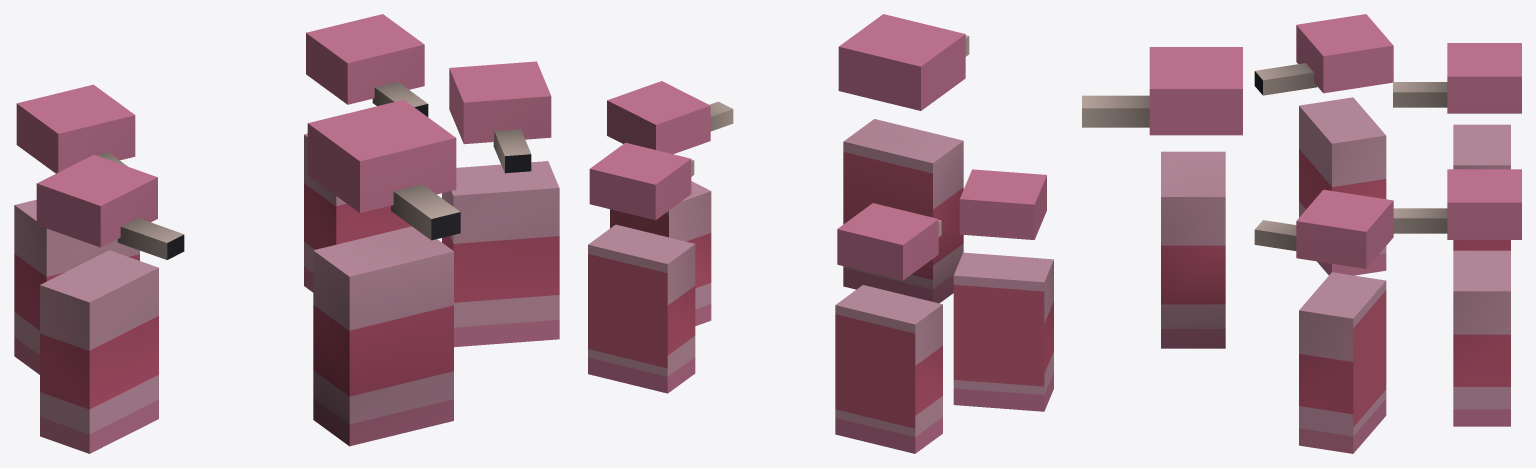
The model's file is flamingo-flock-lod3.glb.
3 renders of one model, left to right at view 1: azimuth 30°, elevation 25°; view 2: azimuth 150°, elevation 25°; view 3: azimuth 270°, elevation 25°, orthographic. The views are drawn at different scales.
Parts seen in each view (by area): view 1: cap_torso, att3_torso, att2_torso, cap_hat, att3_hat, att0_hat, att2_hat, att1_hat, att1_torso, att0_torso; view 2: att0_torso, att1_torso, att3_torso, cap_torso, cap_hat, att2_hat, att0_hat, att1_hat, att3_hat, att2_torso; view 3: att2_torso, cap_torso, cap_hat, att0_torso, att3_torso, att3_hat, att2_hat, att0_hat, att1_hat, att1_torso.
Part boxes in pixels (box(x1,y1,x2,y2)): cap_torso: box(313, 226, 453, 446); att3_torso: box(40, 250, 158, 453); att2_torso: box(442, 161, 559, 347); cap_hat: box(307, 100, 460, 240); att3_hat: box(36, 155, 184, 259); att0_hat: box(306, 14, 428, 116); att2_hat: box(449, 61, 551, 173); att1_hat: box(16, 84, 135, 173); att1_torso: box(14, 199, 139, 374); att0_torso: box(304, 133, 411, 292); att0_torso: box(588, 224, 695, 393); att1_torso: box(835, 285, 942, 453); att3_torso: box(953, 252, 1053, 411); cap_torso: box(843, 119, 963, 303); cap_hat: box(838, 14, 969, 110); att2_hat: box(607, 81, 733, 154); att0_hat: box(589, 142, 694, 220); att1_hat: box(837, 203, 941, 280); att3_hat: box(959, 169, 1046, 239); att2_torso: box(610, 181, 711, 325); att2_torso: box(1299, 272, 1386, 453); cap_torso: box(1161, 151, 1225, 348); cap_hat: box(1082, 47, 1242, 135); att0_torso: box(1453, 250, 1510, 426); att3_torso: box(1299, 97, 1386, 275); att3_hat: box(1254, 14, 1393, 95); att2_hat: box(1254, 189, 1393, 268); att0_hat: box(1393, 169, 1521, 239); att1_hat: box(1393, 43, 1521, 113); att1_torso: box(1453, 124, 1510, 250).
Size of the model in its own units: 2.18 by 1.26 by 1.83.
